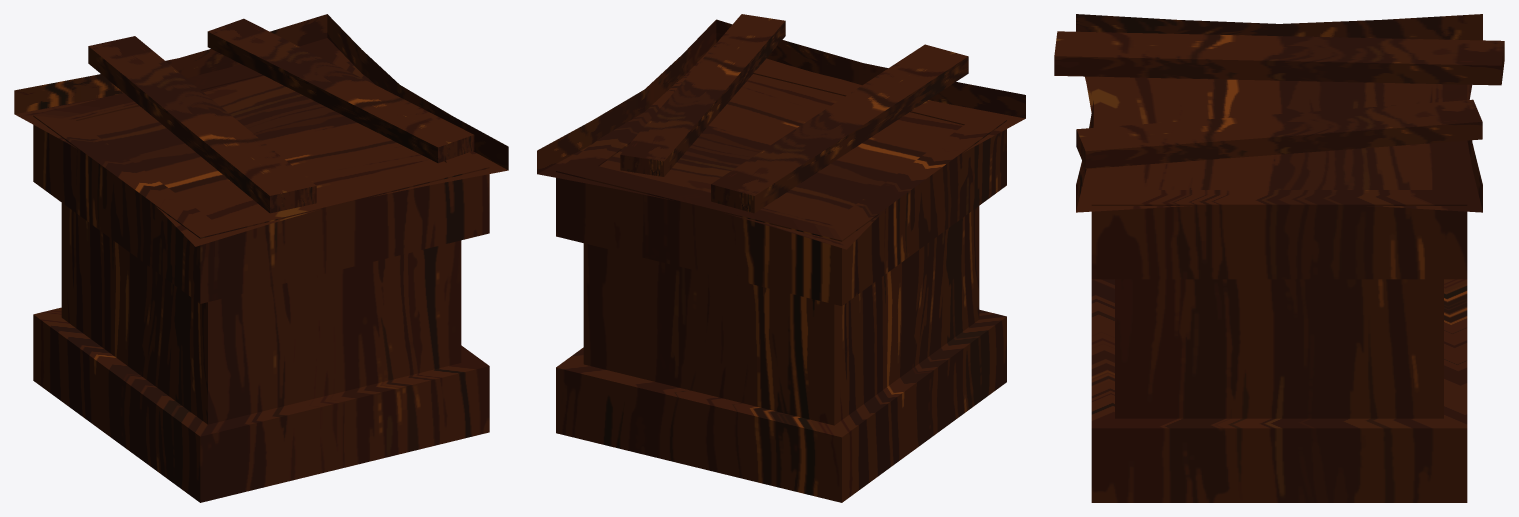
The model's file is caja01.glb.
3 renders of one model, left to right at view 1: azimuth 30°, elevation 25°; view 2: azimuth 150°, elevation 25°; view 3: azimuth 270°, elevation 25°, orthographic. The views are drawn at different scales.
Parts seen in each view (by area): view 1: Caja Cerrada, Tapa Caja, Cube.008, Cube.009; view 2: Caja Cerrada, Tapa Caja, Cube.008, Cube.009; view 3: Caja Cerrada, Tapa Caja, Cube.008, Cube.009.
Part boxes in pixels (bbox=[...]): Caja Cerrada: bbox=[33, 45, 489, 502]; Tapa Caja: bbox=[14, 14, 508, 246]; Cube.008: bbox=[88, 36, 316, 213]; Cube.009: bbox=[207, 18, 474, 163]; Caja Cerrada: bbox=[556, 60, 1006, 502]; Tapa Caja: bbox=[537, 19, 1025, 249]; Cube.008: bbox=[711, 44, 968, 213]; Cube.009: bbox=[620, 14, 785, 176]; Caja Cerrada: bbox=[1091, 76, 1467, 502]; Tapa Caja: bbox=[1076, 14, 1482, 212]; Cube.008: bbox=[1054, 31, 1504, 85]; Cube.009: bbox=[1076, 99, 1482, 168].
Size of the model in its own units: 0.803 by 0.7473 by 0.8897.
1 material, 1 textured.
